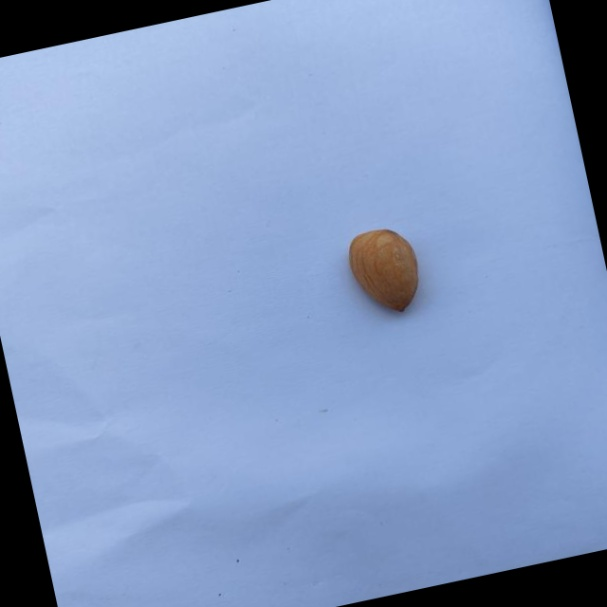grade2: (337, 220, 430, 324)
